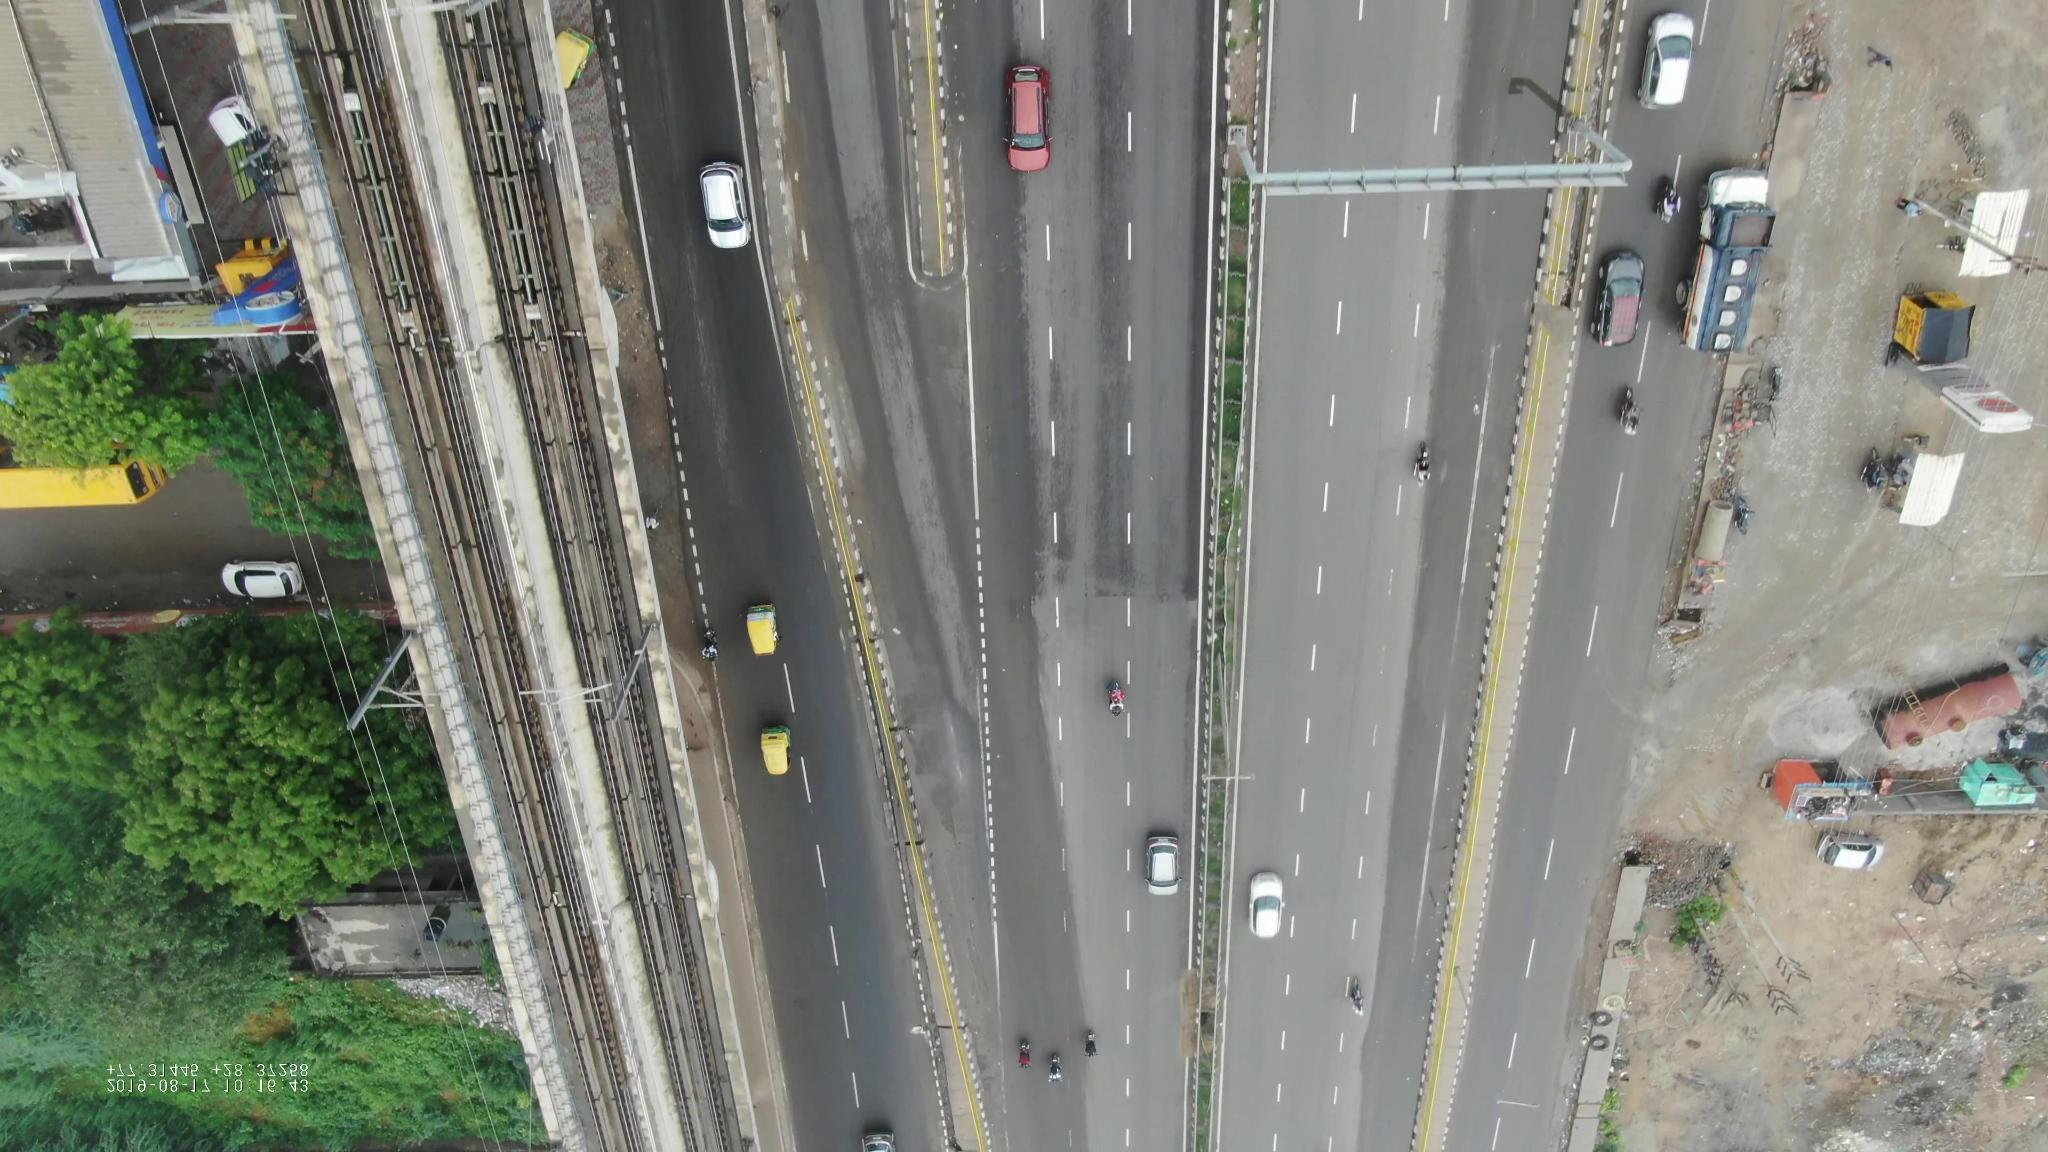Muddy_road: (1160, 979, 1210, 1063)
Waterlogging: (1466, 65, 1566, 354), (1404, 560, 1497, 765)
